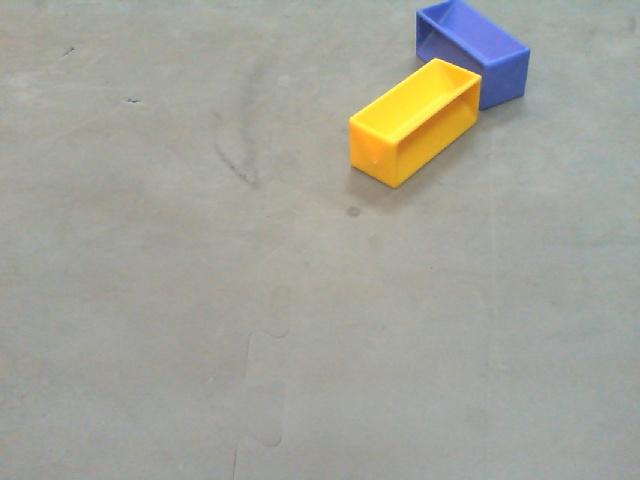BlueSample: (411, 1, 529, 114)
YellowSample: (347, 57, 482, 198)
